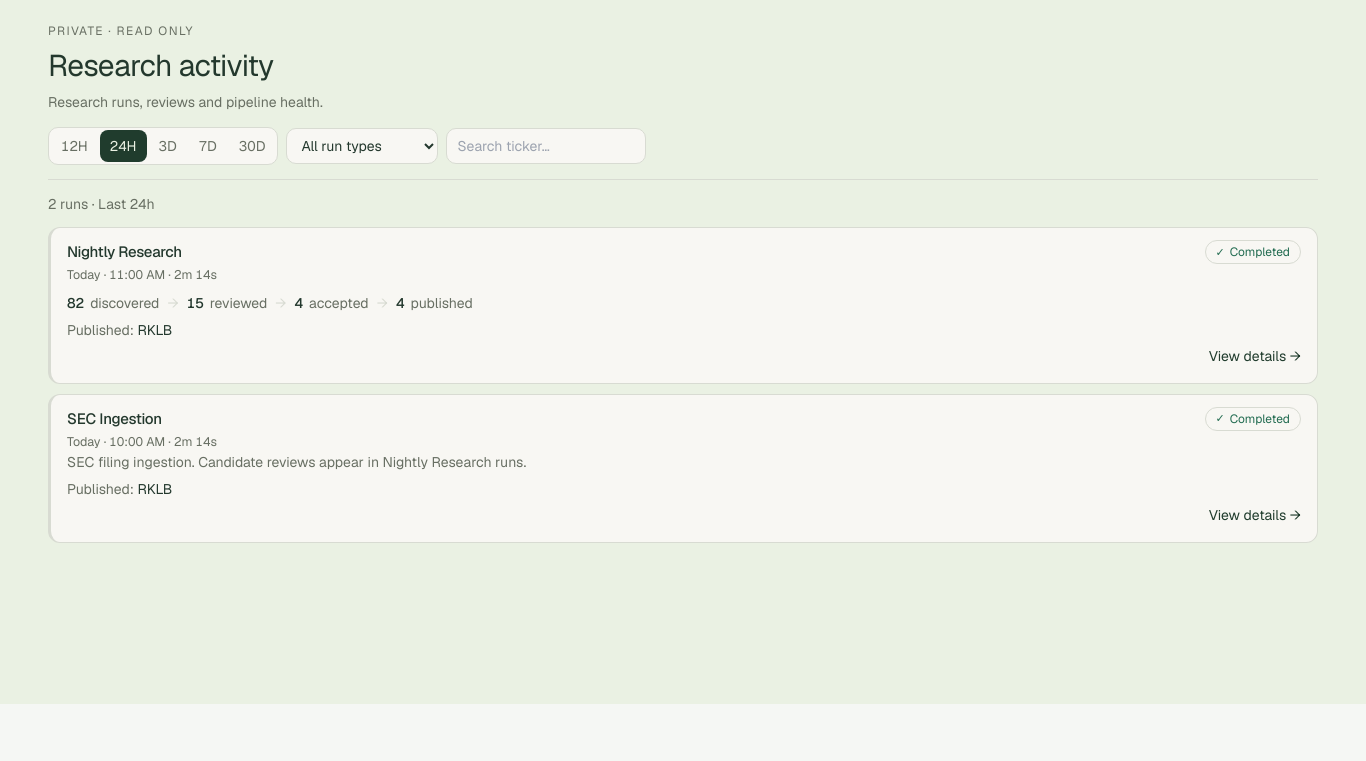
Test: research activity page › combines ticker, time and job filters across the full retained window
In the search field labelled "Search ticker": (546,146) left=446, top=128, right=646, bottom=164, type "rklb"
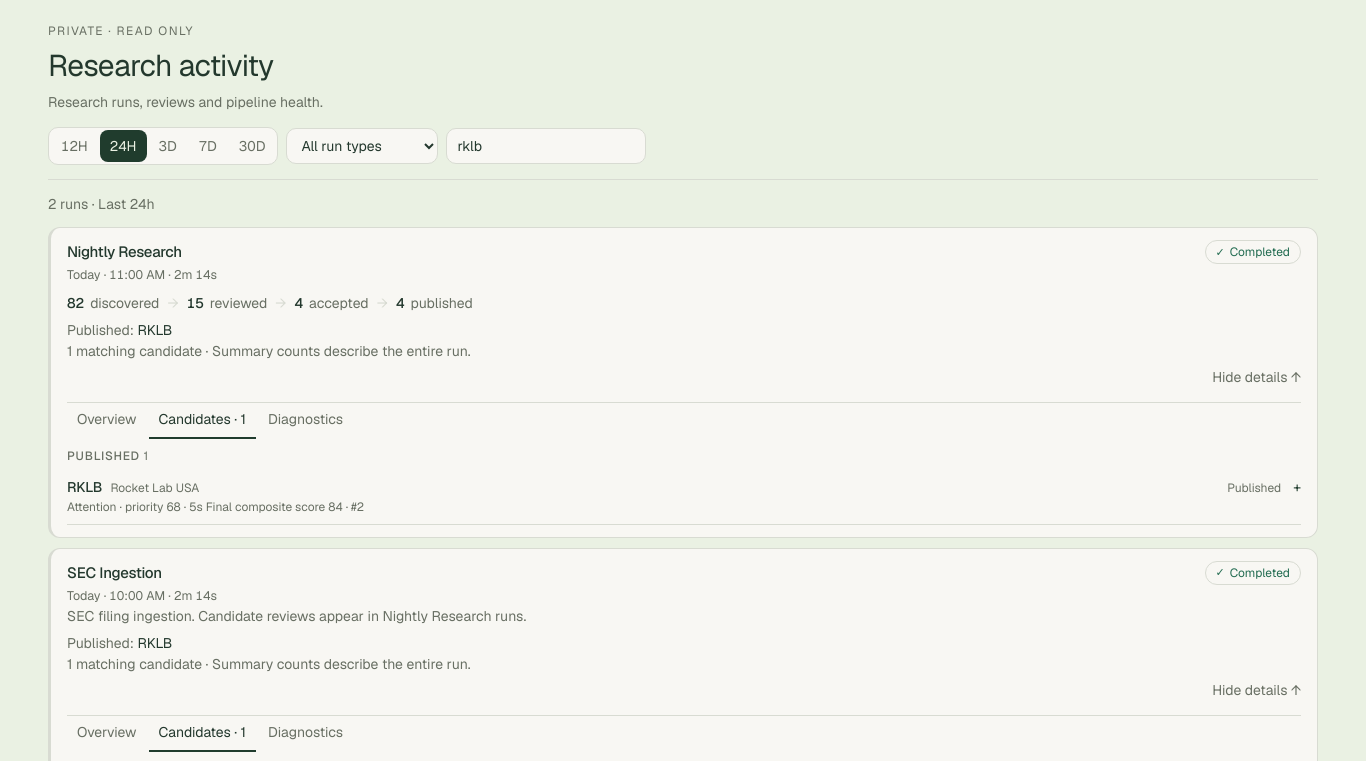
Expected: the text "RKLB" is shown 2 times
Click the button "30D": (252,146) left=229, top=130, right=275, bottom=162
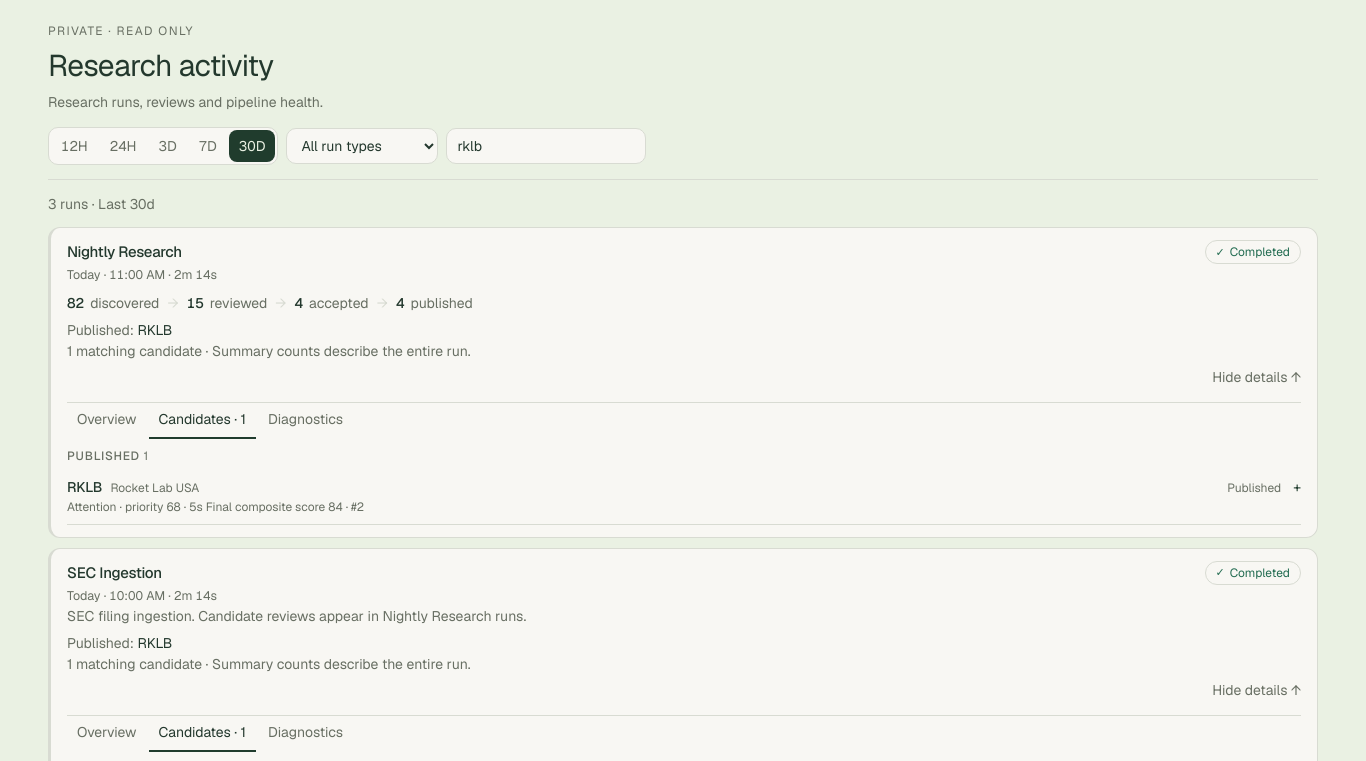
Select "Nightly Research" in the dropdown named "Run type": (362,146) left=286, top=128, right=438, bottom=164
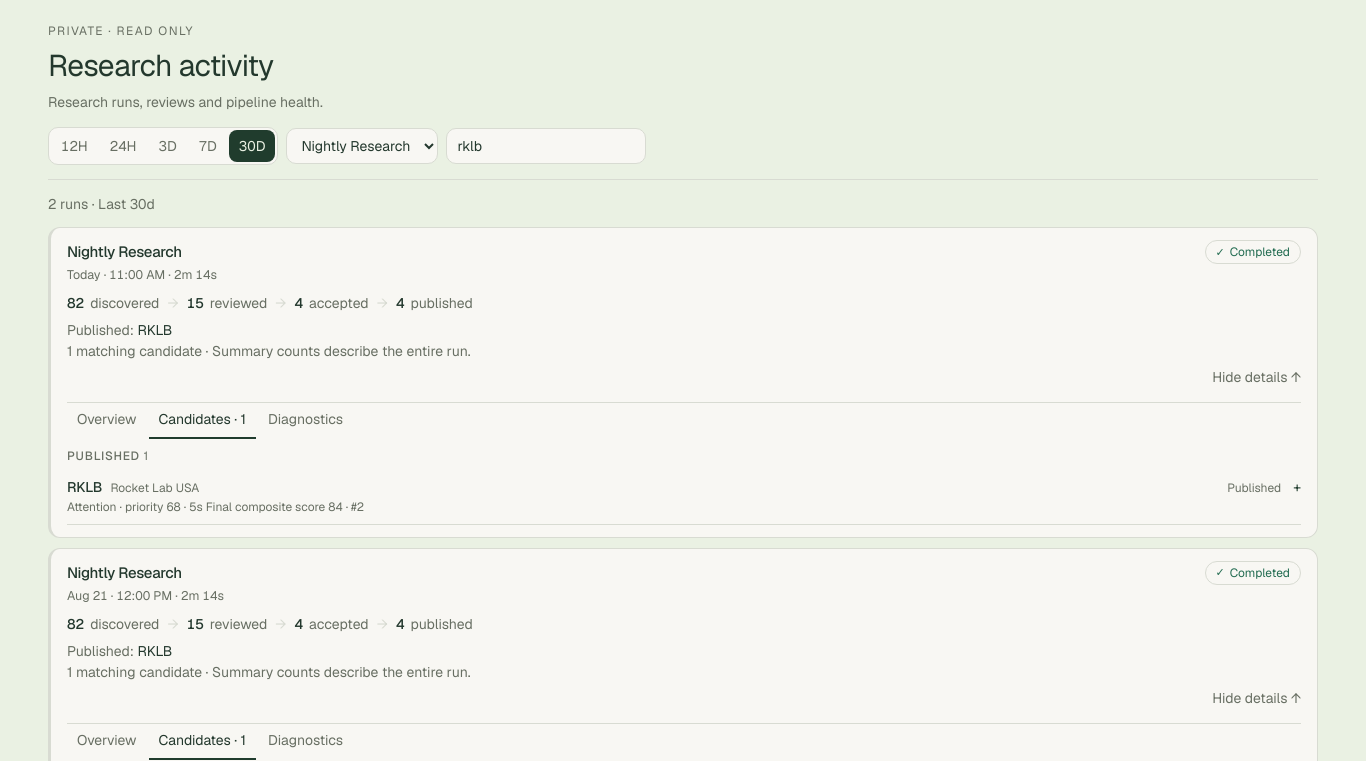
Click the button "12H": (74,146) left=51, top=130, right=98, bottom=162
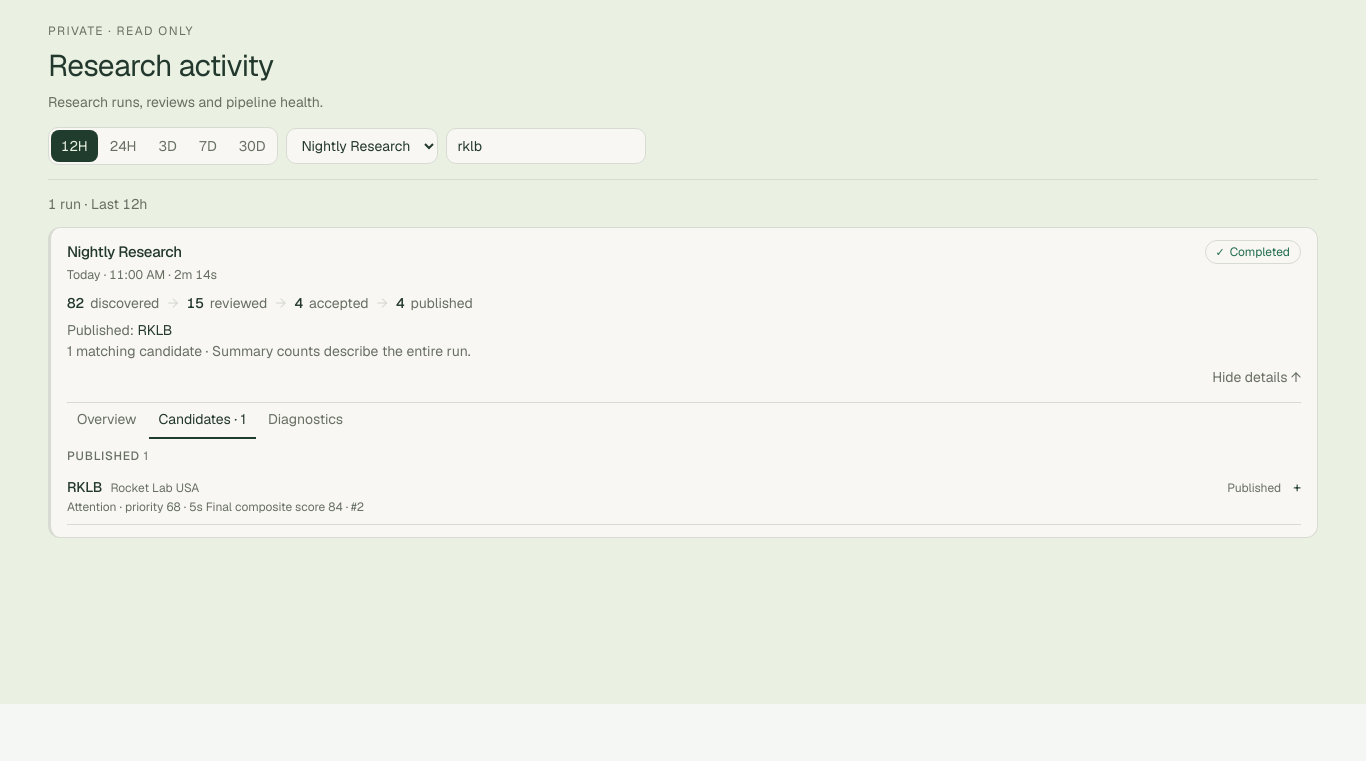
Expected: the text "RKLB" is shown once, left=67, top=478, right=102, bottom=496
Select "Performance" in the dropdown named "Run type": (362,146) left=286, top=128, right=438, bottom=164
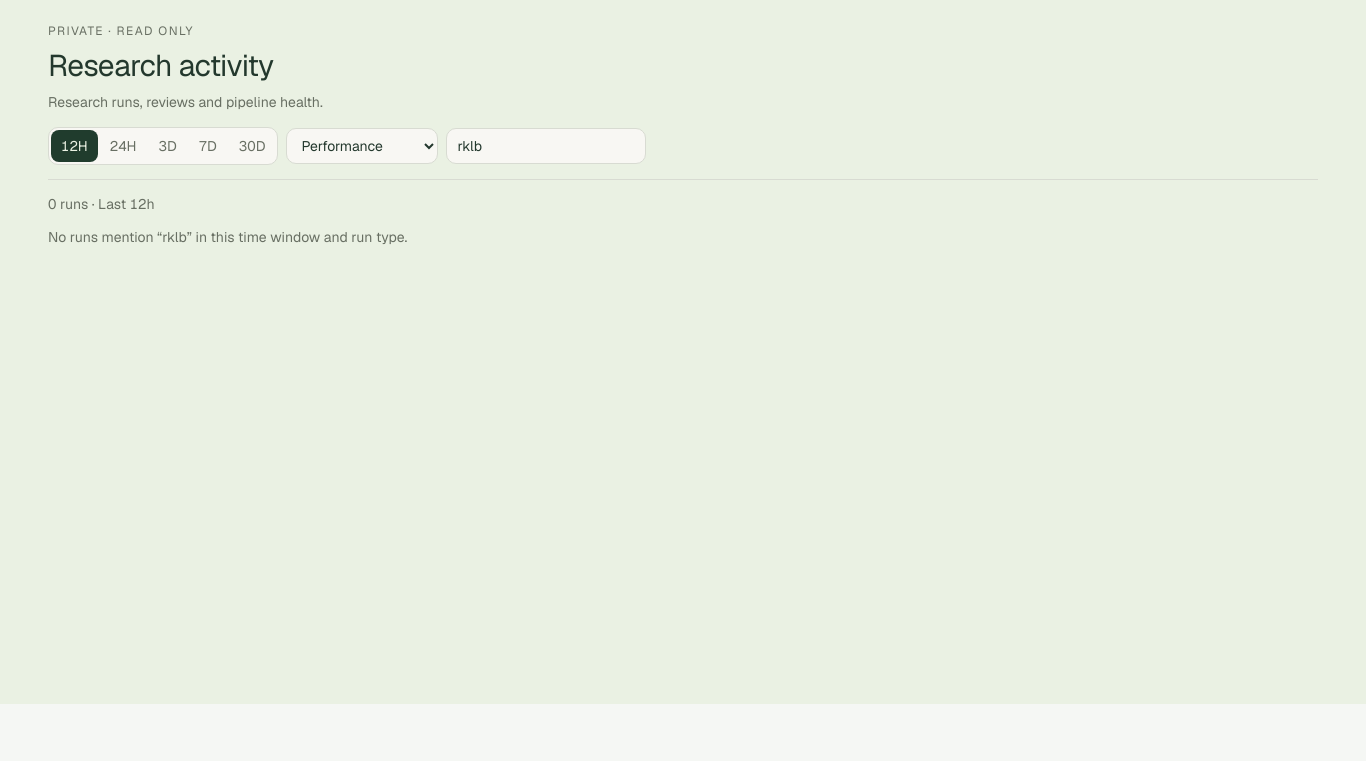
Expected: the text "No runs mention “rklb” in this time window and run type." is shown, left=48, top=228, right=407, bottom=246
